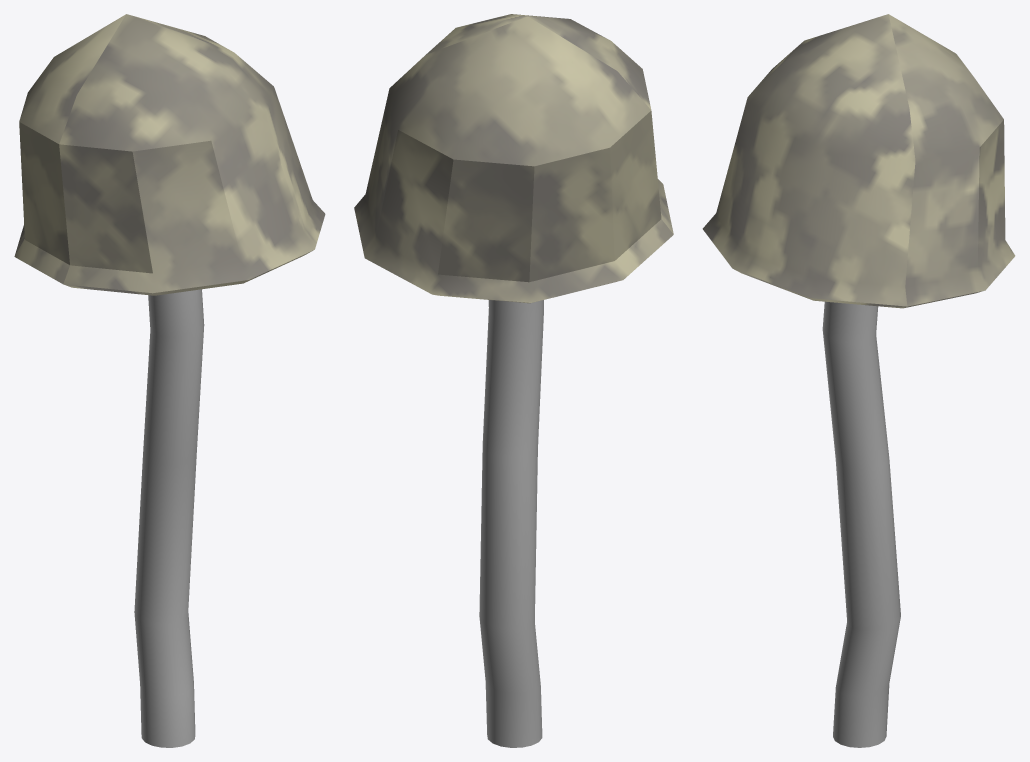
Rendered from Sm_Fungus3L.fbx.
The picture shows the model from 3 angles, left to right: view 1: azimuth 30°, elevation 25°; view 2: azimuth 150°, elevation 25°; view 3: azimuth 270°, elevation 25°; orthographic projection. The views are drawn at different scales.
Parts seen in each view (by area): view 1: Sm_Fungus3L; view 2: Sm_Fungus3L; view 3: Sm_Fungus3L.
Part boxes in pixels (bbox=[...]): Sm_Fungus3L: bbox=[14, 14, 325, 747]; Sm_Fungus3L: bbox=[354, 14, 673, 747]; Sm_Fungus3L: bbox=[702, 14, 1015, 747].
Size of the model in its own units: 13.88 by 36.32 by 14.53.
